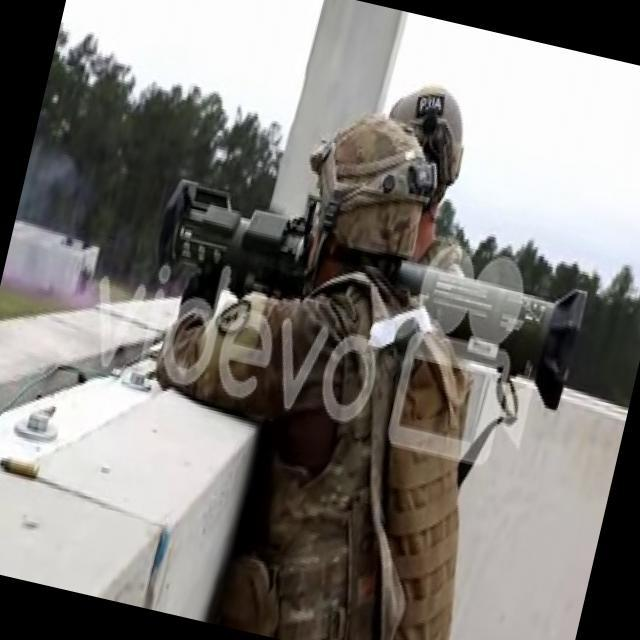rocket: (142, 177, 590, 410)
